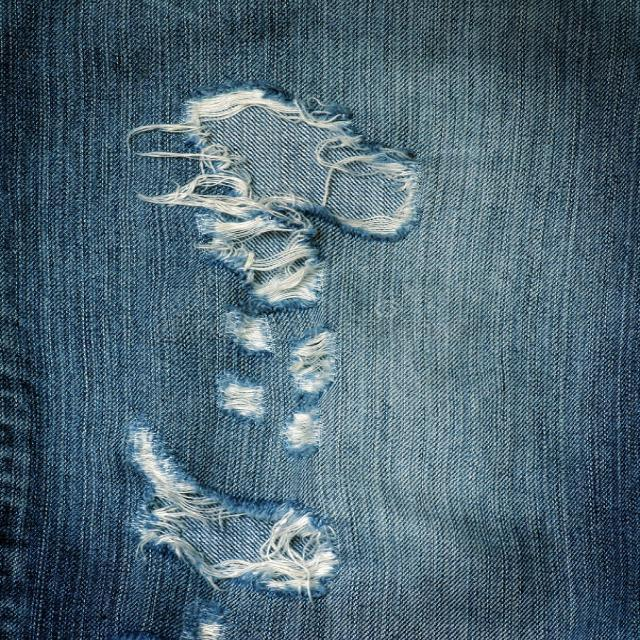Hole: (134, 85, 418, 309), (127, 421, 339, 598), (285, 327, 337, 458), (218, 376, 265, 422), (228, 313, 273, 353), (180, 601, 226, 640)
